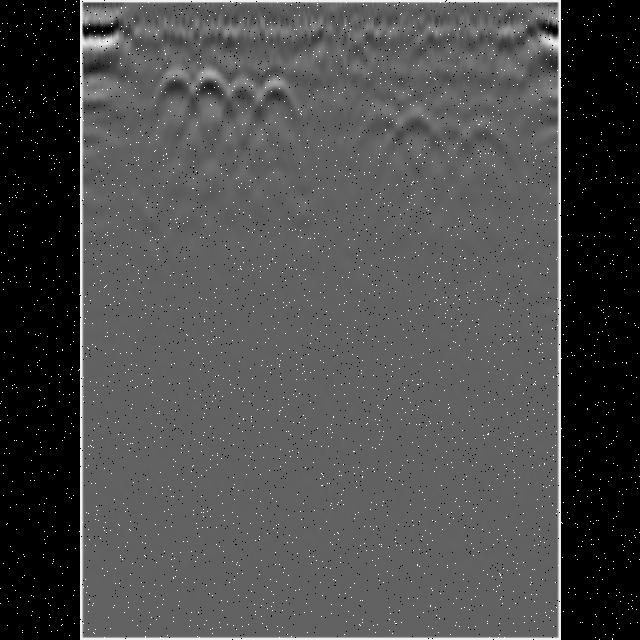hyperbola: (387, 101, 447, 151), (455, 112, 509, 156), (148, 65, 200, 109), (423, 113, 475, 155), (216, 71, 272, 109), (352, 104, 402, 142), (258, 72, 300, 112), (190, 65, 230, 105)
